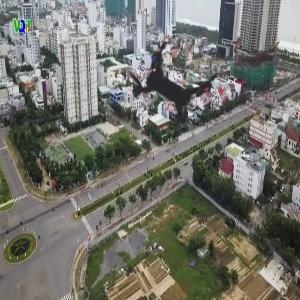drone: (86, 3, 253, 170)
